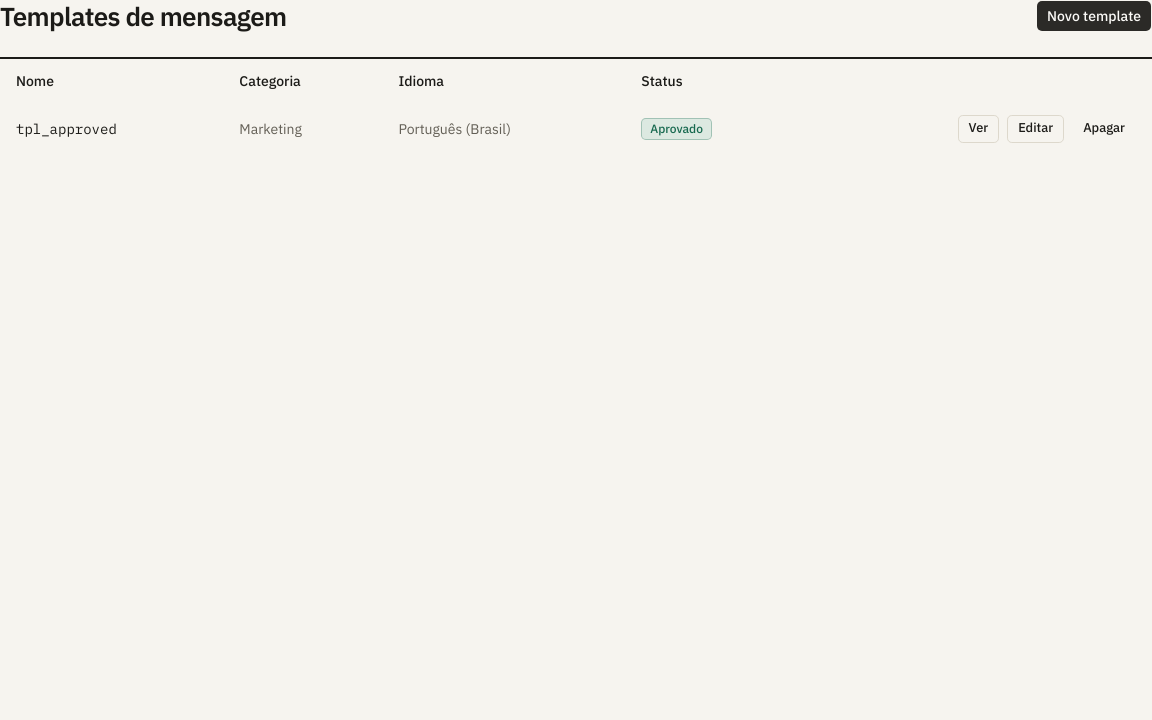
it: B54-02 — criar, editar e apagar template › CA-B54-31: should manter o template na lista e mostrar o motivo quando a Meta recusa apagar
This screenshot has width=1152, height=720.
Click the button with aria-label "Apagar tpl_approved" at (1104, 128), box [1072,114,1136,142]
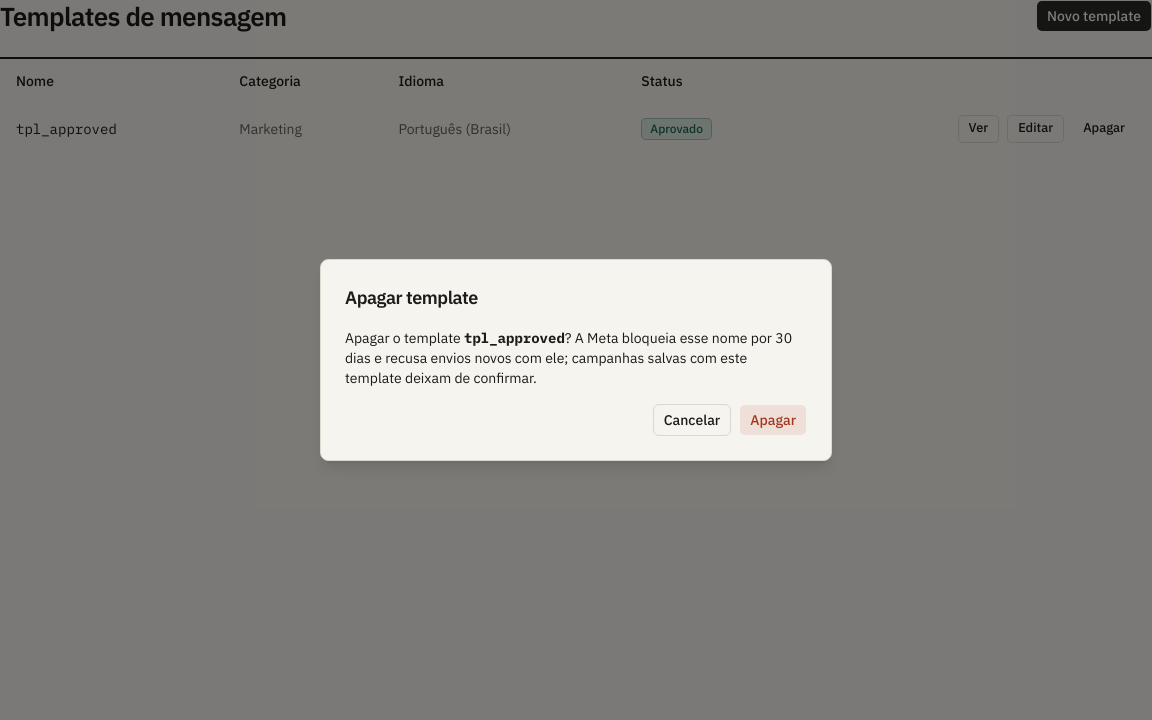
Click the button "Apagar" at (773, 420), box [739,404,807,436]
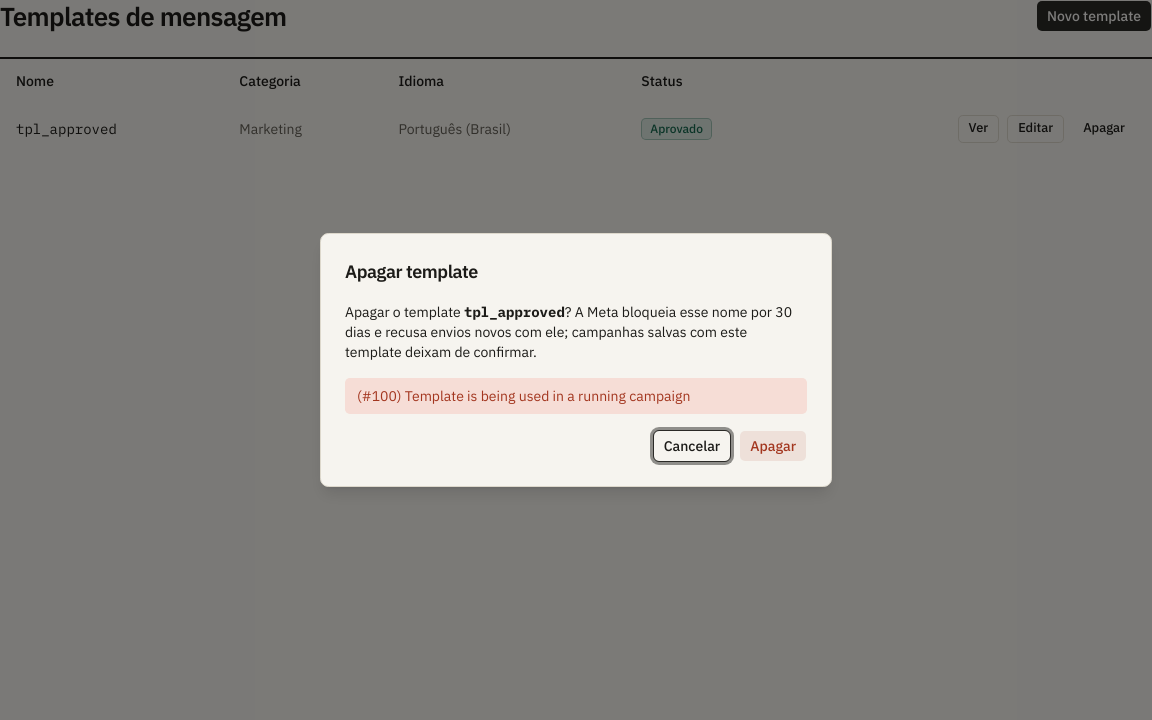
Expected: the text "tpl_approved" is shown, [0,102,223,154]
Result: the text "(#100) Template is being used in a running campaign" is shown at [345,378,807,414]
